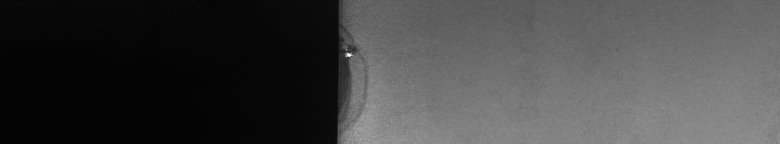hb: (348, 32, 372, 128)
